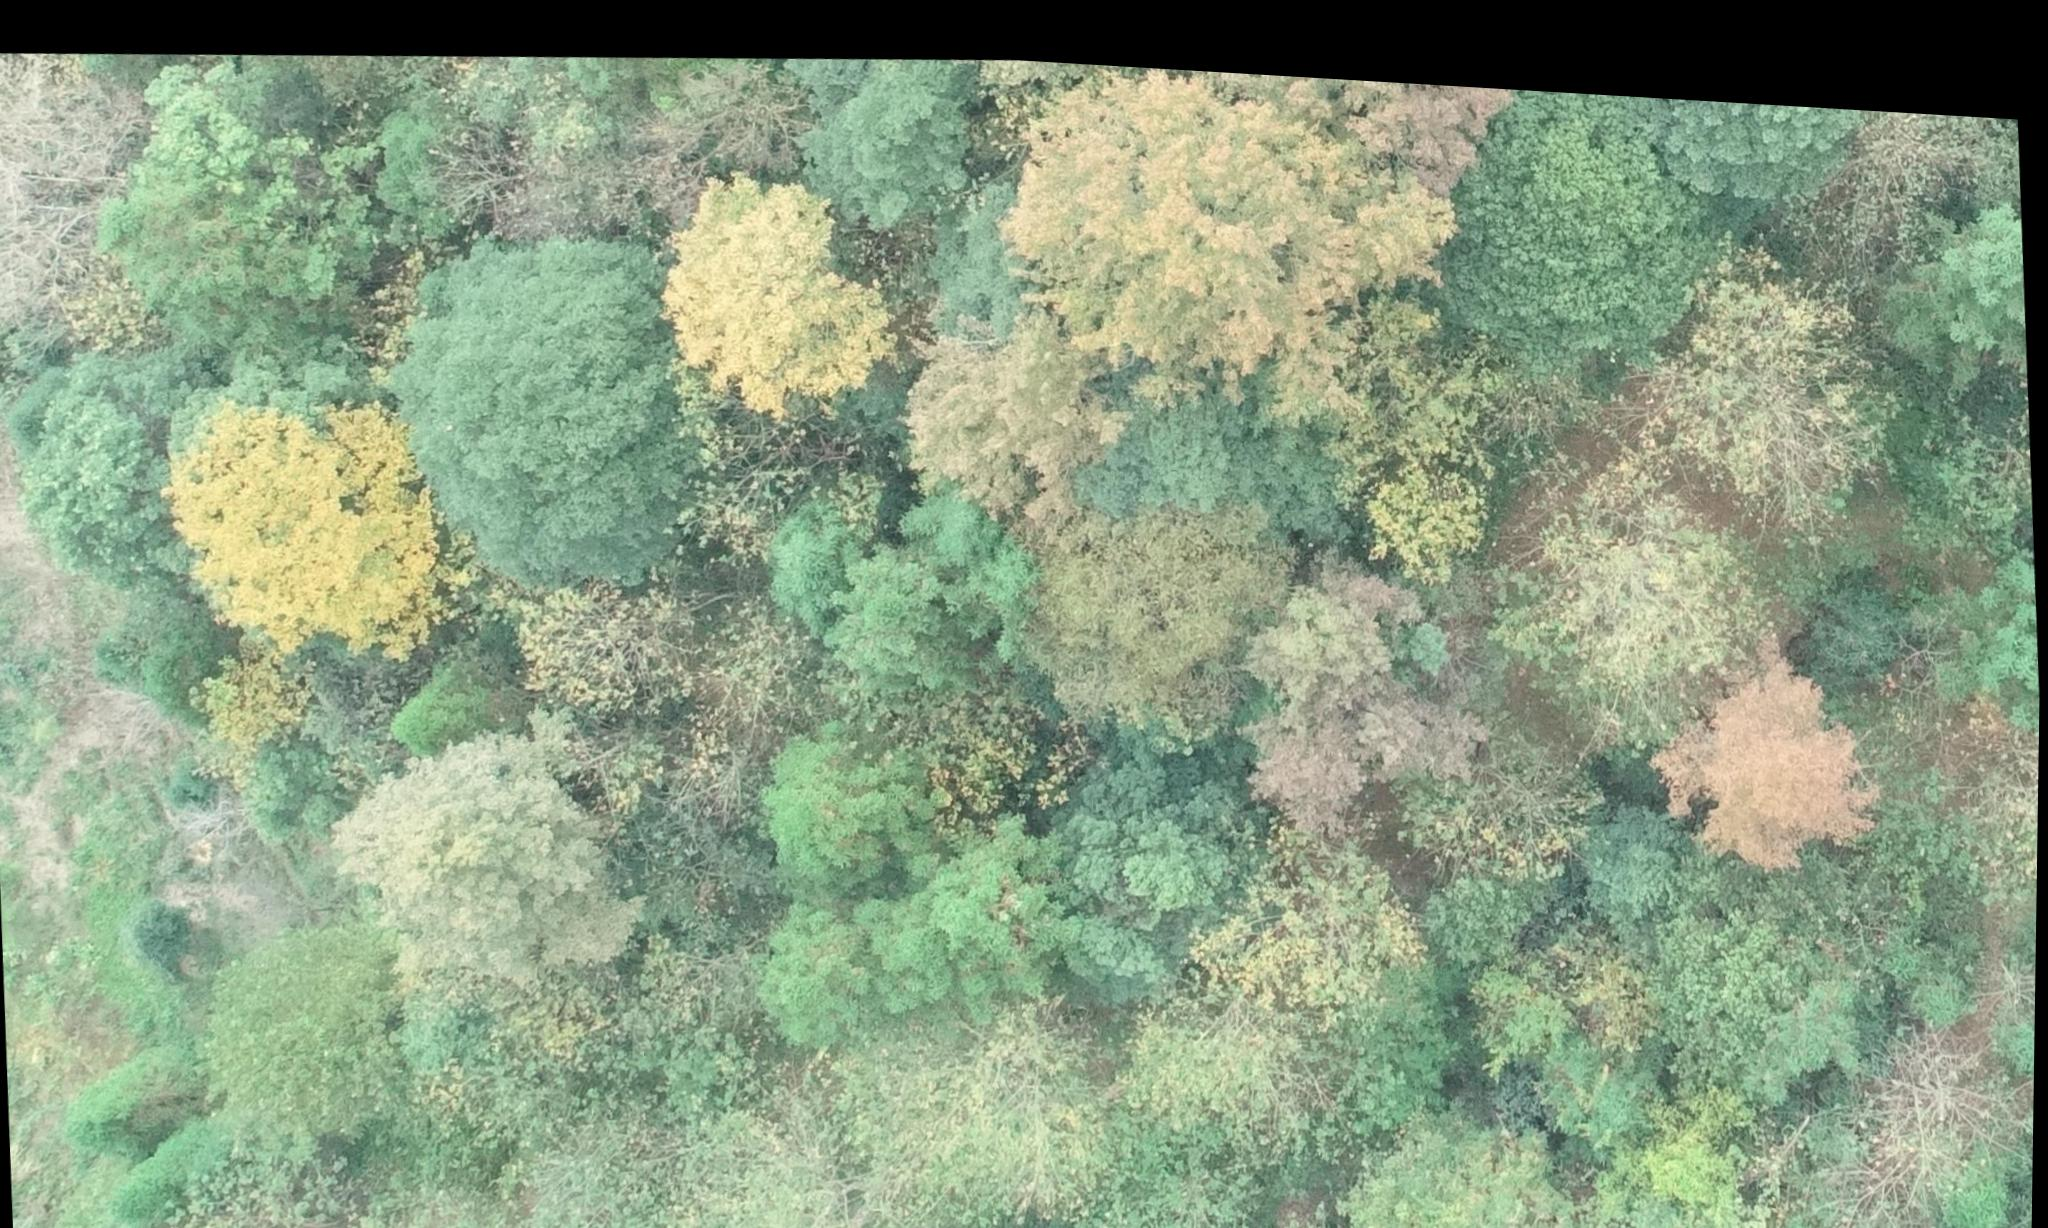heavy: (1628, 610, 1919, 882)
light: (1643, 183, 1944, 531), (507, 556, 876, 814), (0, 45, 168, 365)
